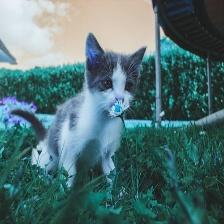kedo: (17, 35, 145, 193)
